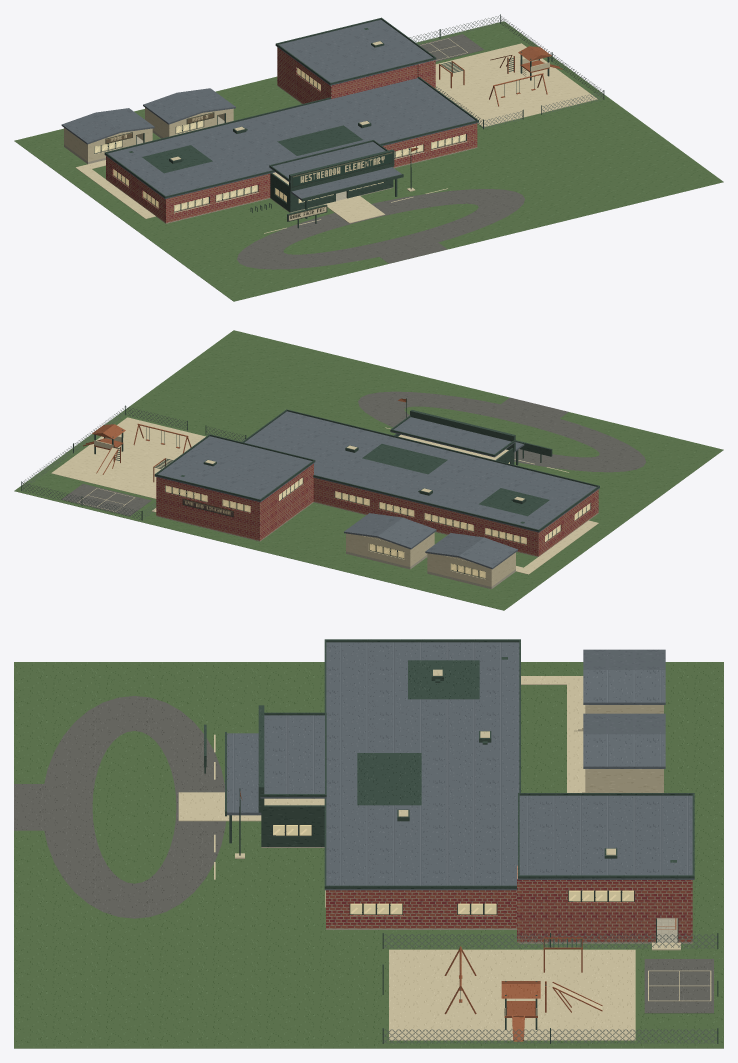
File: westmeadow-1990.glb
3 renders of one model, top to bottom at view 1: azimuth 30°, elevation 25°; view 2: azimuth 150°, elevation 25°; view 3: azimuth 270°, elevation 25°, orthographic. The views are drawn at different scales.
Parts seen in each view (by area): view 1: lot, building_shell, portable_a, portable_b, sign_name; view 2: lot, building_shell, portable_a, portable_b; view 3: lot, building_shell, portable_b, portable_a.
Part boxes in pixels (x1=…): lot: x1=14, y1=14, x2=723, y2=301; building_shell: x1=104, y1=17, x2=478, y2=223; portable_a: x1=61, y1=108, x2=154, y2=163; portable_b: x1=143, y1=88, x2=235, y2=138; sign_name: x1=292, y1=152, x2=392, y2=187; lot: x1=14, y1=330, x2=723, y2=610; building_shell: x1=152, y1=409, x2=599, y2=556; portable_a: x1=425, y1=533, x2=517, y2=589; portable_b: x1=344, y1=513, x2=436, y2=569; lot: x1=14, y1=662, x2=723, y2=1048; building_shell: x1=225, y1=639, x2=694, y2=950; portable_b: x1=574, y1=713, x2=665, y2=792; portable_a: x1=574, y1=649, x2=665, y2=731.
Size of what is drawn, in the model's own units: 85 by 7.14 by 66.
11 materials, 11 textured.
